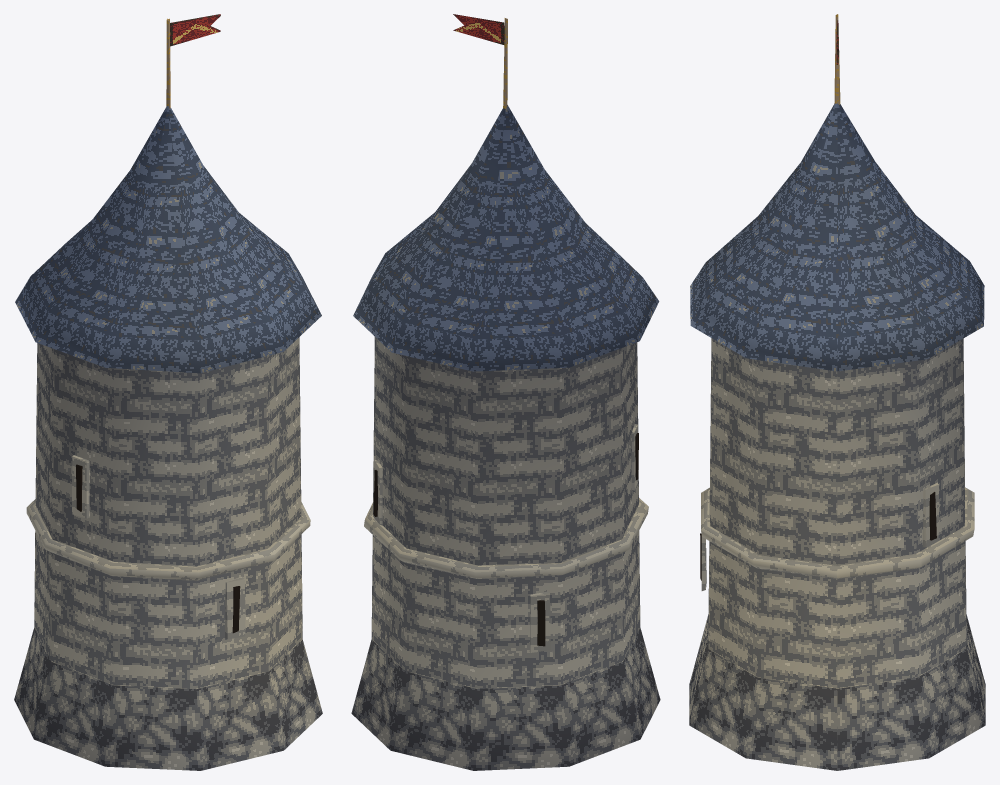
File: cst.tower_round__roofed.glb
3 views of the same model, side by side, from view 1: azimuth 30°, elevation 25°; view 2: azimuth 150°, elevation 25°; view 3: azimuth 270°, elevation 25° (orthographic).
Parts seen in each view (by area): view 1: kit_drum, kit_top, kit_detail; view 2: kit_drum, kit_top, kit_detail; view 3: kit_drum, kit_top, kit_detail.
Part boxes in pixels (x1,y1,x2,y2): kit_drum: (14, 337, 322, 770); kit_top: (15, 106, 321, 373); kit_detail: (26, 14, 310, 639); kit_drum: (351, 337, 660, 770); kit_top: (353, 105, 659, 371); kit_detail: (364, 14, 648, 652); kit_drum: (689, 338, 985, 770); kit_top: (690, 103, 984, 371); kit_detail: (700, 14, 974, 590).
Bounding box in the file's own units: 6.9 × 16.87 × 6.56.
Materials: 7 (7 with a texture image).
